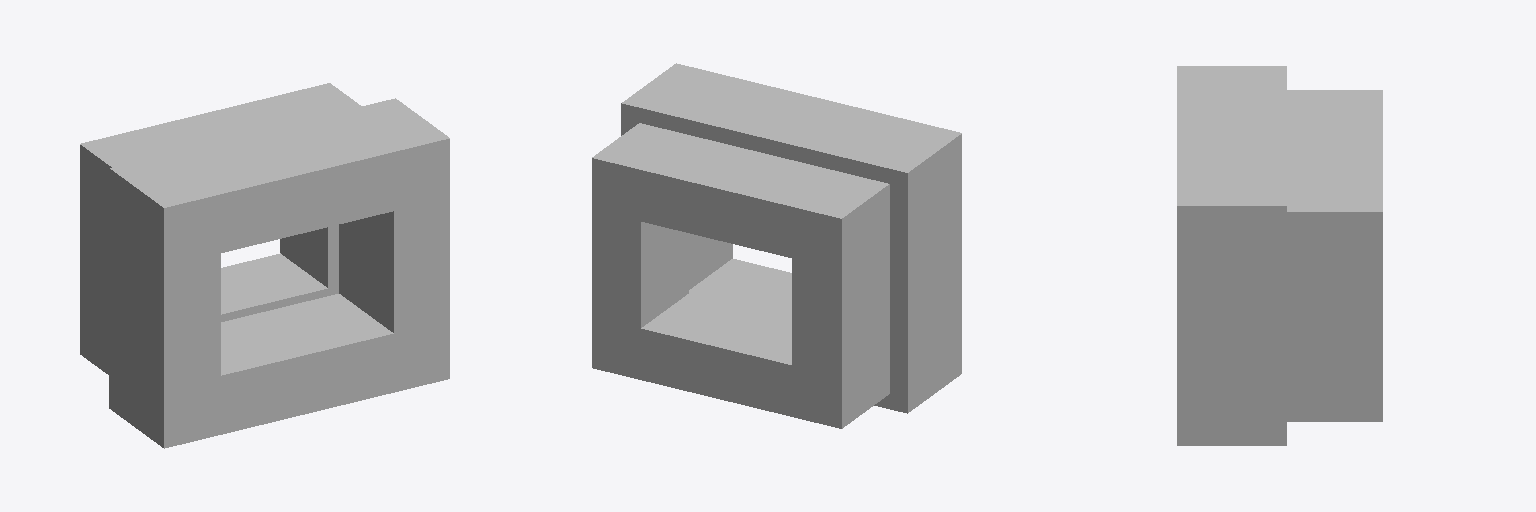
File: StoneReceiver.obj
The picture shows the model from 3 angles: view 1: azimuth 30°, elevation 25°; view 2: azimuth 150°, elevation 25°; view 3: azimuth 270°, elevation 25°; orthographic projection.
Visible parts, largest first — view 1: Object.4, Object.2, Object.1, Object.3, Object.8, Object.6, Object.5, Object.7; view 2: Object.8, Object.6, Object.2, Object.5, Object.7, Object.1, Object.4, Object.3; view 3: Object.3, Object.7, Object.1, Object.5, Object.4, Object.8, Object.2, Object.6.
Part boxes in pixels (bbox=[...]): Object.4: bbox=[109, 294, 449, 448]; Object.2: bbox=[109, 154, 220, 389]; Object.1: bbox=[166, 112, 393, 252]; Object.3: bbox=[339, 98, 449, 332]; Object.8: bbox=[80, 253, 338, 374]; Object.6: bbox=[80, 132, 160, 323]; Object.5: bbox=[130, 95, 312, 154]; Object.7: bbox=[280, 83, 361, 287]; Object.8: bbox=[592, 294, 889, 428]; Object.6: bbox=[792, 172, 889, 376]; Object.2: bbox=[851, 119, 961, 354]; Object.5: bbox=[641, 135, 838, 257]; Object.7: bbox=[592, 123, 688, 327]; Object.1: bbox=[678, 77, 905, 173]; Object.4: bbox=[689, 259, 961, 413]; Object.3: bbox=[621, 63, 732, 289]; Object.3: bbox=[1177, 178, 1286, 386]; Object.7: bbox=[1287, 188, 1382, 370]; Object.1: bbox=[1177, 93, 1286, 177]; Object.5: bbox=[1287, 114, 1382, 187]; Object.4: bbox=[1177, 387, 1286, 445]; Object.8: bbox=[1287, 371, 1382, 421]; Object.2: bbox=[1177, 66, 1286, 92]; Object.6: bbox=[1287, 90, 1382, 113].
Size of the model in its own units: 82.92 by 66.57 by 51.44.